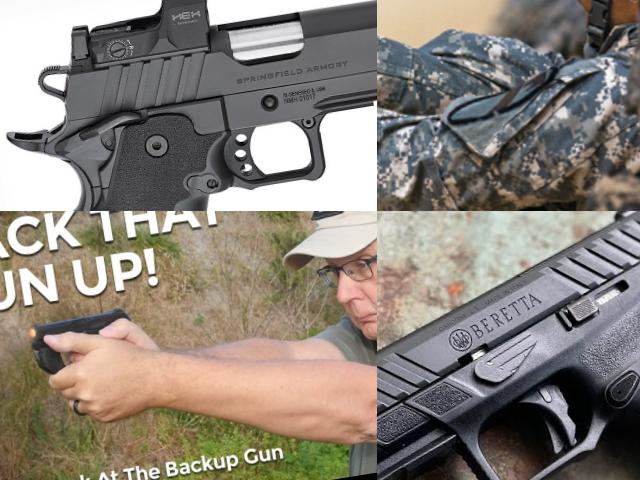handgun: (0, 0, 377, 211), (377, 211, 640, 480), (377, 0, 478, 94), (23, 304, 142, 380)
